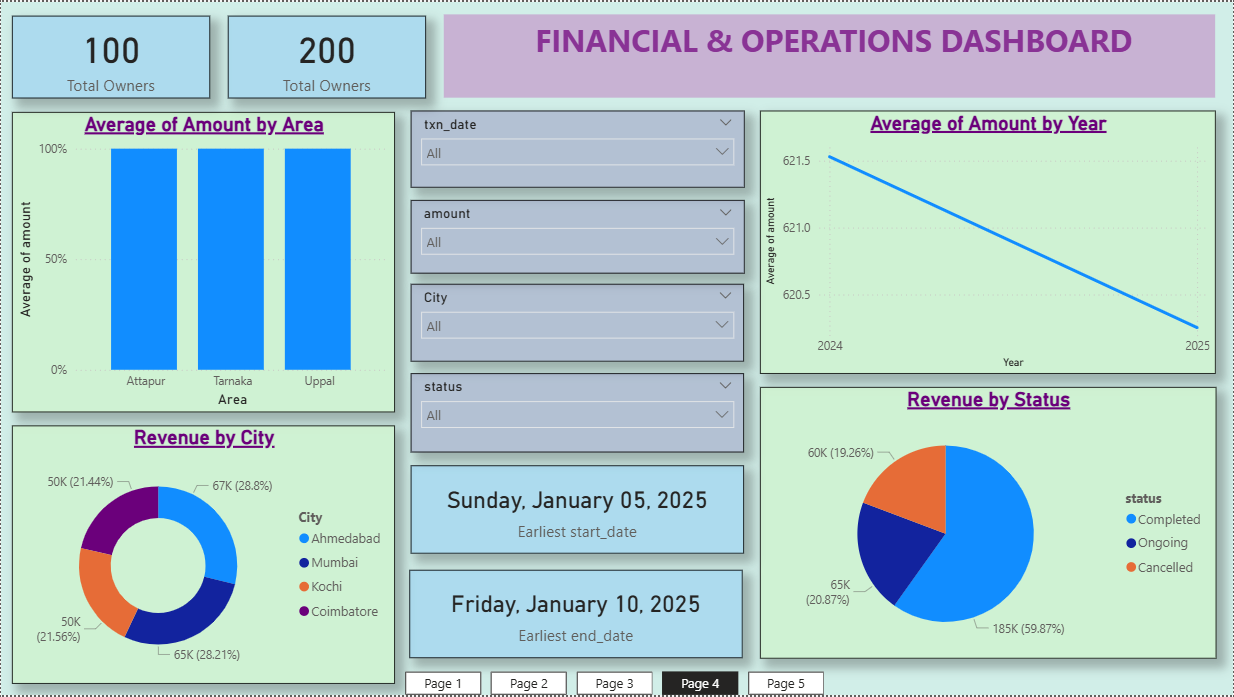

This screenshot's page, from the dashboard's own definition file:
{"tool":"powerbi","page":{"name":"Page 4","canvas":[1280,720],"ordinal":3},"visuals":[{"type":"hundredPercentStackedColumnChart","title":"Average of Amount by Area","fields":{"Y":["Avg(Transactions.amount)"],"Category":["Locations.Area"]},"box":[12,114,398,312],"z":0},{"type":"lineChart","title":"Average of Amount by Year","fields":{"Y":["Avg(Transactions.amount)"],"Category":["Transactions.txn_date.Variation.Date Hierarchy.Year"]},"box":[788.3,113.3,473.3,273.3],"z":1000},{"type":"donutChart","title":"Revenue by City","fields":{"Y":["Sum(Transactions.amount)"],"Category":["Locations.City"]},"box":[12,440,398,268],"z":2000},{"type":"pieChart","title":"Revenue by Status","fields":{"Category":["Reservations.status"],"Y":["Sum(Transactions.amount)"]},"box":[788,400,474,282],"z":3000},{"type":"card","fields":{"Values":["Count(Reviews.reviewer_id)"]},"box":[12,14,206,86],"z":4000},{"type":"card","fields":{"Values":["Count(Tools.owner_id)"]},"box":[236,14,206,86],"z":5000},{"type":"slicer","fields":{"Values":["Locations.City"]},"box":[425.5,293.3,346.5,80.6],"z":6000},{"type":"slicer","fields":{"Values":["Reservations.status"]},"box":[425.5,385.2,346.5,82.2],"z":7000},{"type":"card","fields":{"Values":["Min(Reservations.start_date)"]},"box":[425.5,481.9,346.5,91.9],"z":8000},{"type":"card","fields":{"Values":["Min(Reservations.end_date)"]},"box":[423.9,589.9,346.5,91.9],"z":9000},{"type":"pageNavigator","box":[420.7,696.3,436.8,24.2],"z":10000},{"type":"textbox","box":[460,13.3,801.7,86.7],"z":11000},{"type":"slicer","fields":{"Values":["Transactions.txn_date"]},"box":[425,113.3,346.7,80],"z":12000},{"type":"slicer","fields":{"Values":["Transactions.amount"]},"box":[425,205,346.7,76.7],"z":13000}]}

Visuals, with their boxes in screenshot pixels (x1, y1, x2, y2), scaled from the page's 1280x720 canvas onto the 1234x697 screenshot:
"Average of Amount by Area" hundredPercentStackedColumnChart: [x1=12, y1=110, x2=395, y2=412]
"Average of Amount by Year" lineChart: [x1=760, y1=110, x2=1216, y2=374]
"Revenue by City" donutChart: [x1=12, y1=426, x2=395, y2=685]
"Revenue by Status" pieChart: [x1=760, y1=387, x2=1217, y2=660]
card - Count(Reviews.reviewer_id): [x1=12, y1=14, x2=210, y2=97]
card - Count(Tools.owner_id): [x1=228, y1=14, x2=426, y2=97]
slicer - Locations.City: [x1=410, y1=284, x2=744, y2=362]
slicer - Reservations.status: [x1=410, y1=373, x2=744, y2=452]
card - Min(Reservations.start_date): [x1=410, y1=467, x2=744, y2=555]
card - Min(Reservations.end_date): [x1=409, y1=571, x2=743, y2=660]
pageNavigator: [x1=406, y1=674, x2=827, y2=696]
textbox: [x1=443, y1=13, x2=1216, y2=97]
slicer - Transactions.txn_date: [x1=410, y1=110, x2=744, y2=187]
slicer - Transactions.amount: [x1=410, y1=198, x2=744, y2=273]
